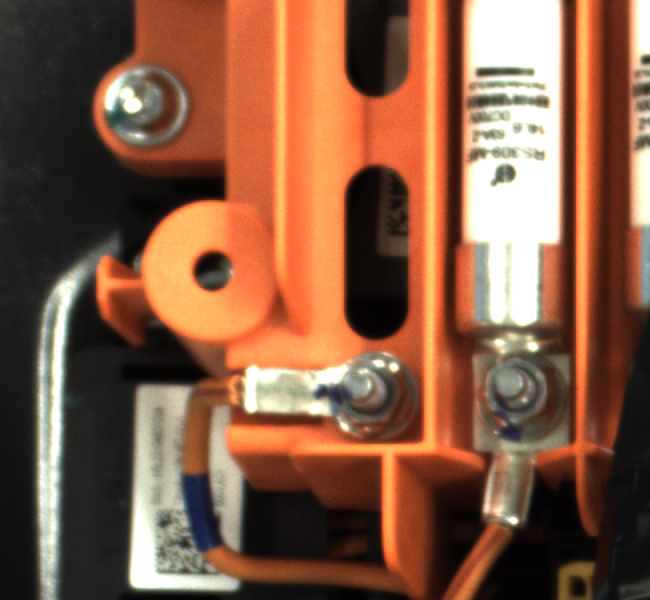screw_m: (95, 59, 211, 154)
screw_s: (323, 350, 423, 438), (468, 355, 554, 427)
